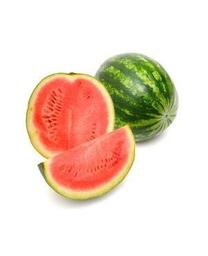watermelon: (28, 72, 137, 201), (94, 54, 179, 140)
